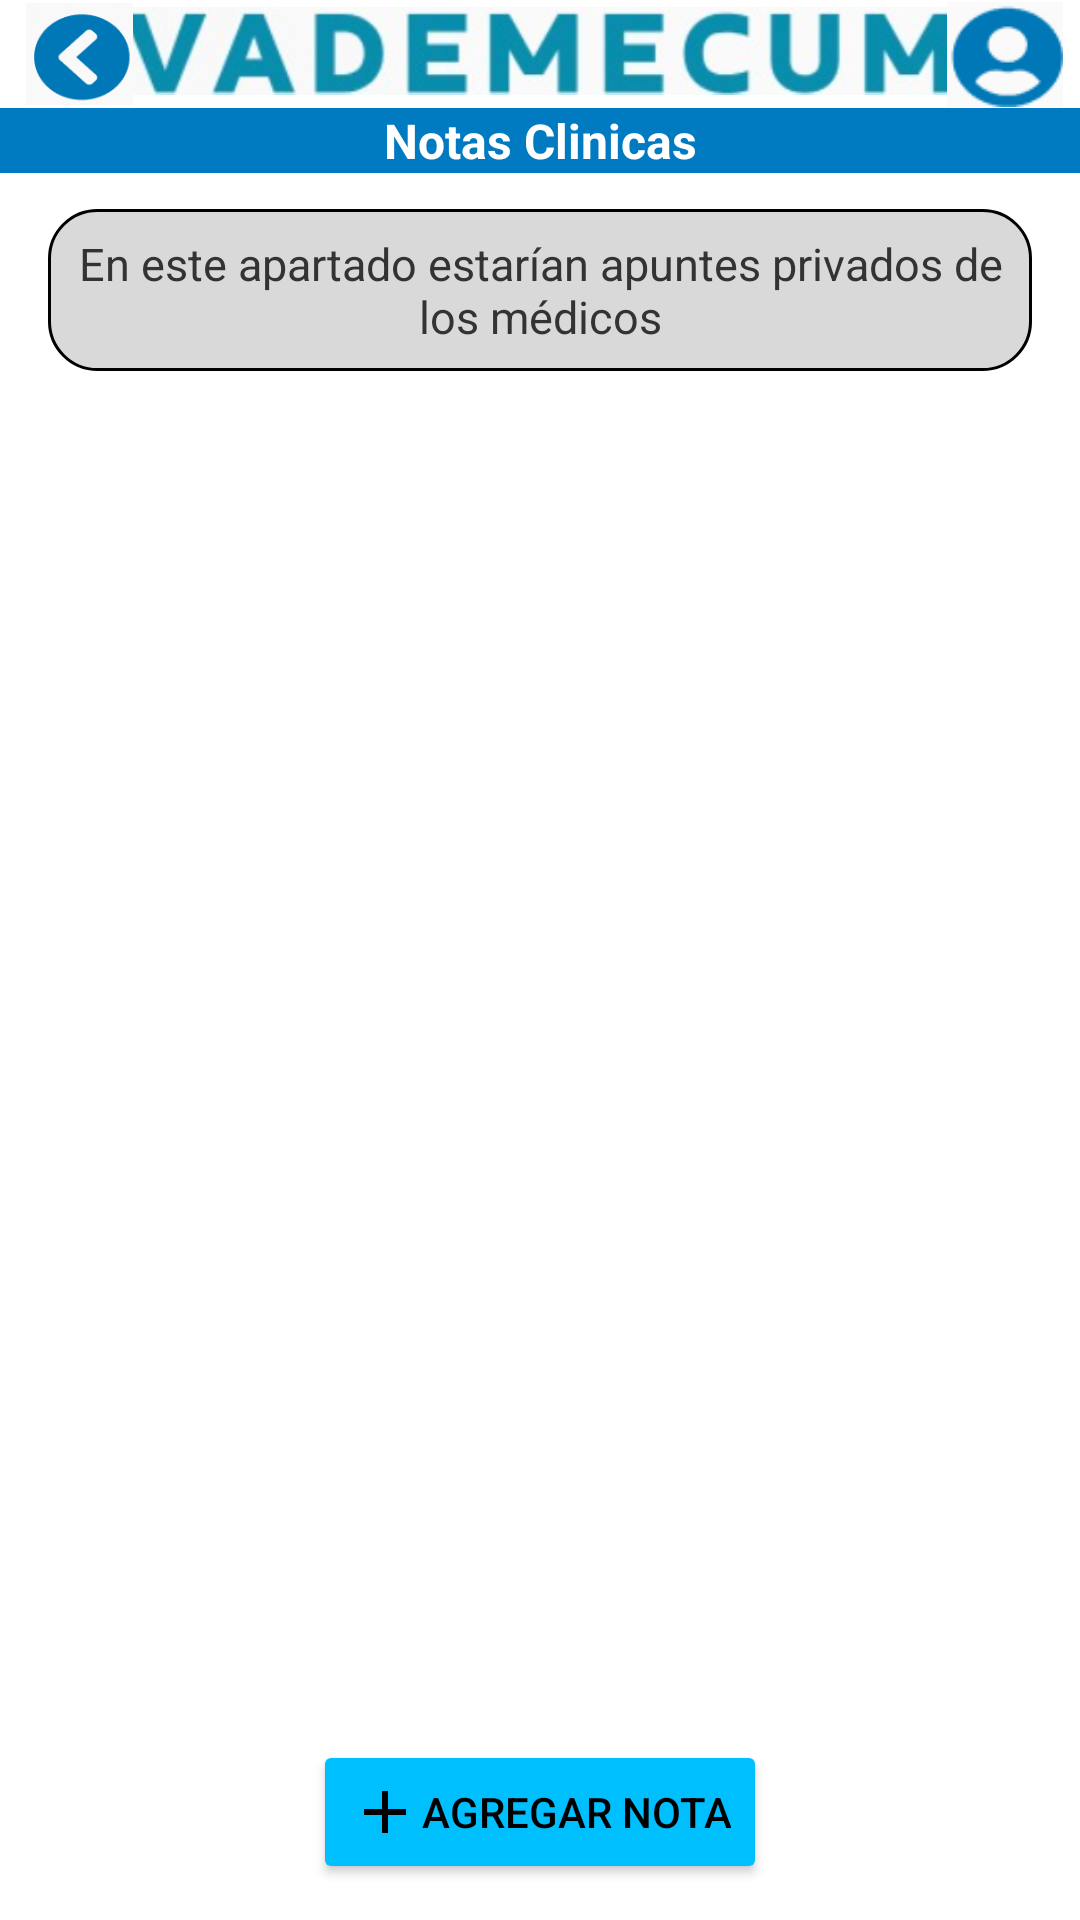

Icons on this 1080px x 1920px Android screen, each with the point to tap as [x,y]:
imgatras: [82,57]
imgusuario: [1005,54]
